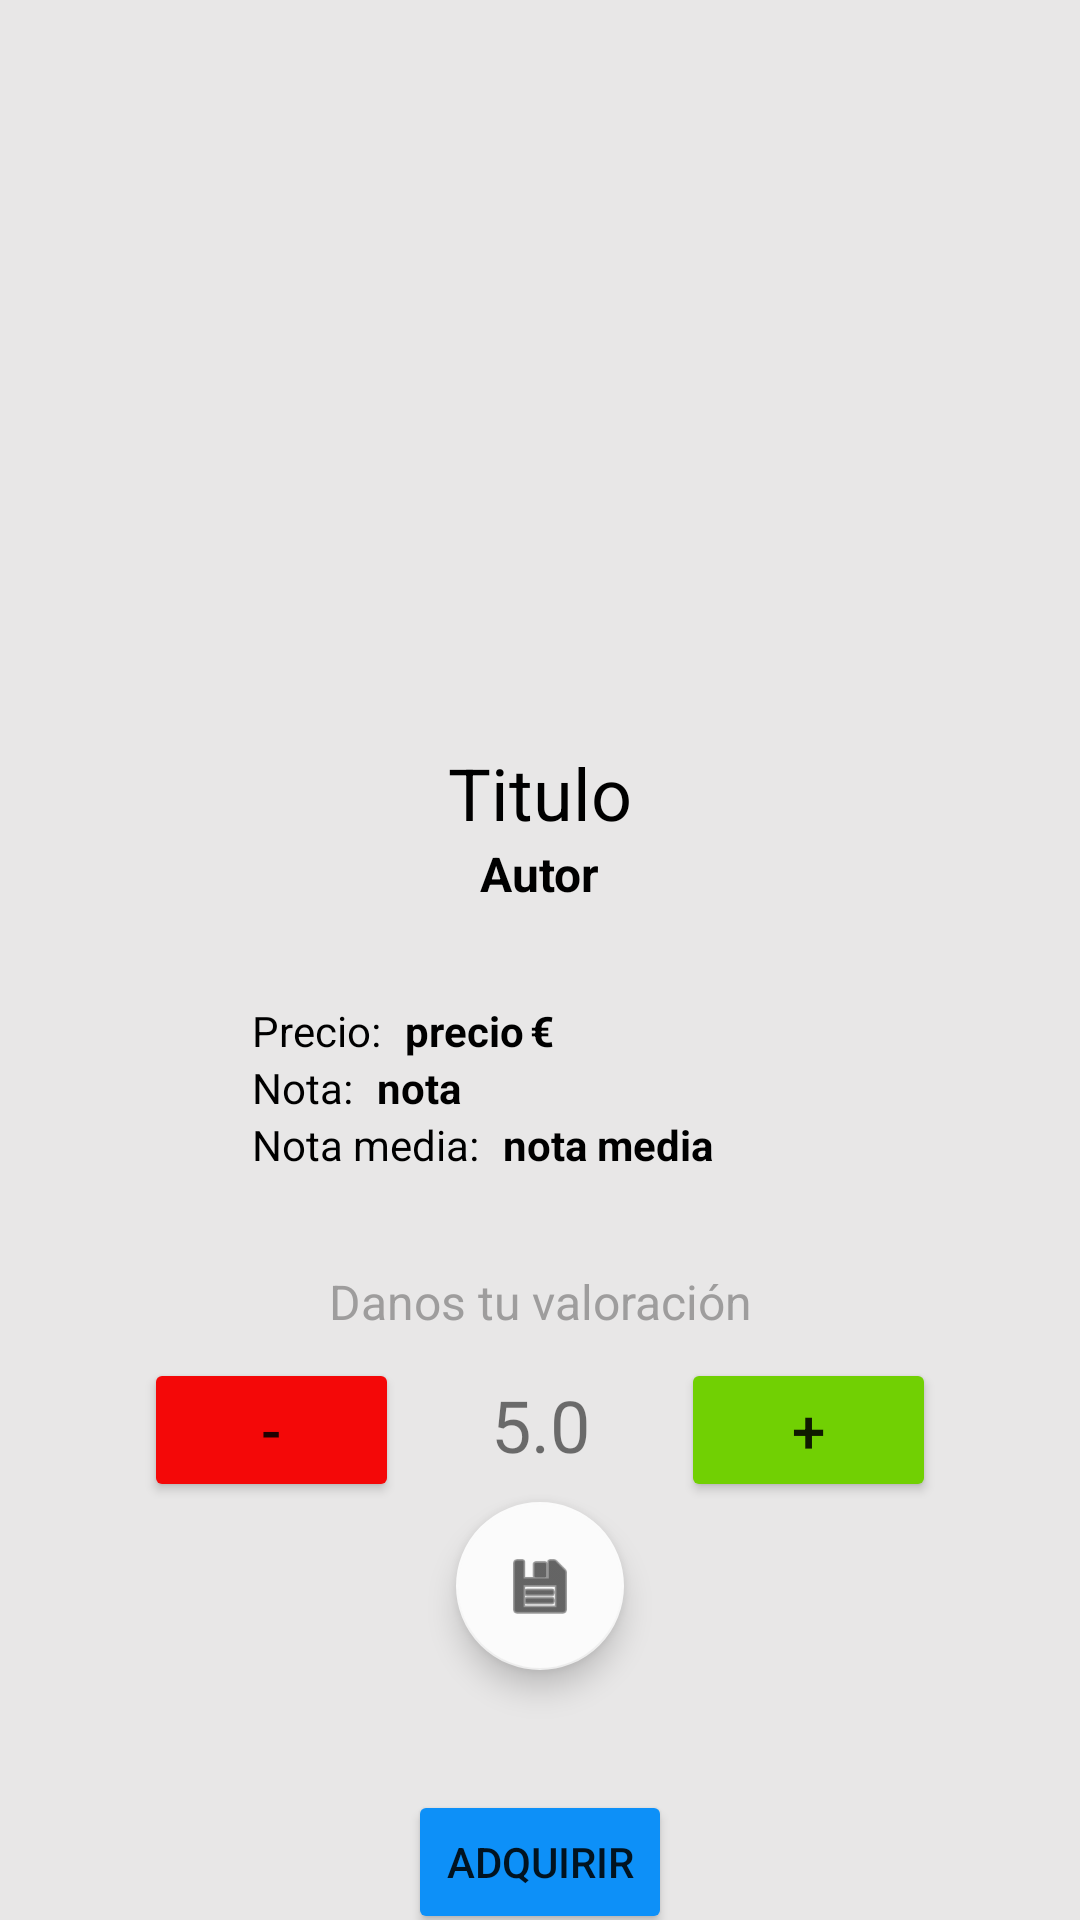

Icon click points for this 1080×1920 phone screenshot, format (x=x, y=y):
save: (x=540, y=1586)
